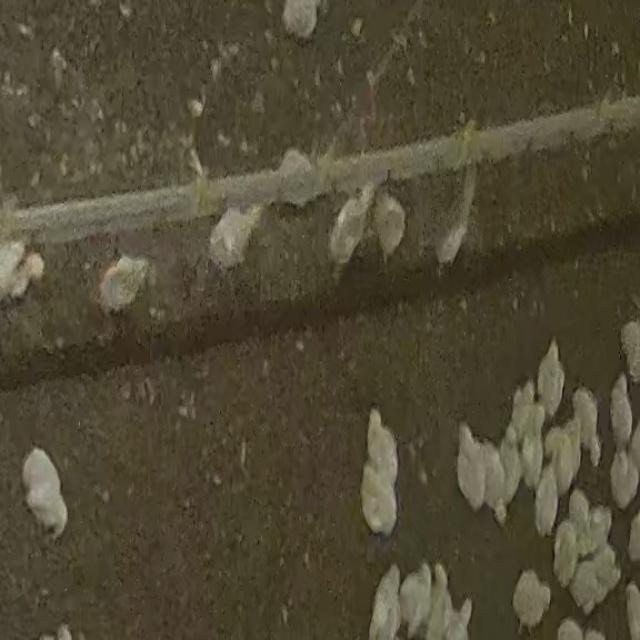chicken: (207, 193, 261, 271), (330, 180, 370, 264), (360, 459, 400, 538), (368, 407, 403, 489), (99, 253, 145, 313), (402, 562, 437, 636), (569, 389, 601, 468), (566, 550, 606, 612), (457, 424, 485, 508), (372, 190, 409, 253), (20, 446, 58, 507), (518, 411, 548, 488), (479, 443, 506, 527), (423, 564, 452, 640), (32, 478, 67, 539), (536, 342, 565, 415), (549, 428, 578, 500), (609, 376, 635, 455), (435, 211, 471, 268), (514, 573, 553, 624), (372, 563, 397, 640), (609, 447, 638, 510), (584, 501, 614, 561), (566, 489, 592, 546), (509, 383, 535, 438), (502, 427, 520, 504)
